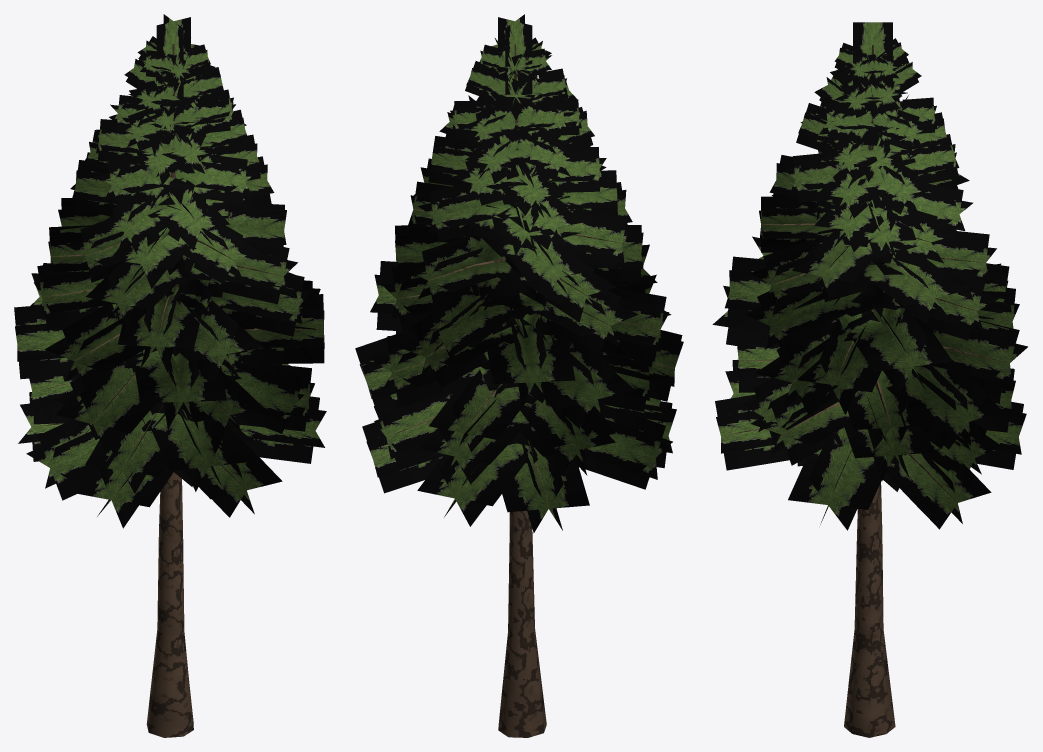
Rendered from pine0_lod0.fbx.
3 views of the same model, side by side, from view 1: azimuth 30°, elevation 25°; view 2: azimuth 150°, elevation 25°; view 3: azimuth 270°, elevation 25° (orthographic).
Parts seen in each view (by area): view 1: pine0_lod0; view 2: pine0_lod0; view 3: pine0_lod0.
Boxes of the visible parts, <box> form: pine0_lod0: <box>14,14,326,737</box>; pine0_lod0: <box>355,14,683,737</box>; pine0_lod0: <box>712,22,1027,737</box>.
Bounding box in the file's own units: 6.25 × 15.68 × 6.36.
Materials: 2 (2 with a texture image).
